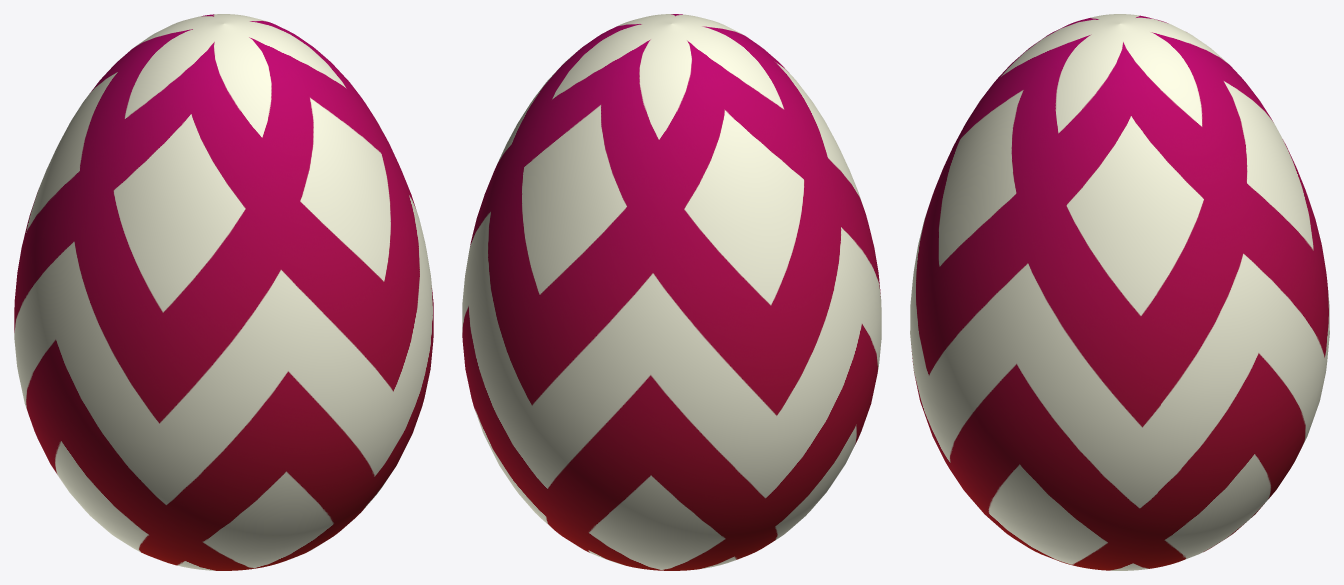
The model's file is egg.glb.
3 renders of one model, left to right at view 1: azimuth 30°, elevation 25°; view 2: azimuth 150°, elevation 25°; view 3: azimuth 270°, elevation 25°, orthographic.
Visible parts, largest first — view 1: Object_4; view 2: Object_4; view 3: Object_4.
Boxes of the visible parts, x1,y1,x2,y2 form: Object_4: [14, 14, 433, 570]; Object_4: [462, 14, 881, 570]; Object_4: [910, 14, 1329, 570].
Bounding box in the file's own units: 2.25 × 3.12 × 2.25.
Materials: 1 (1 with a texture image).
